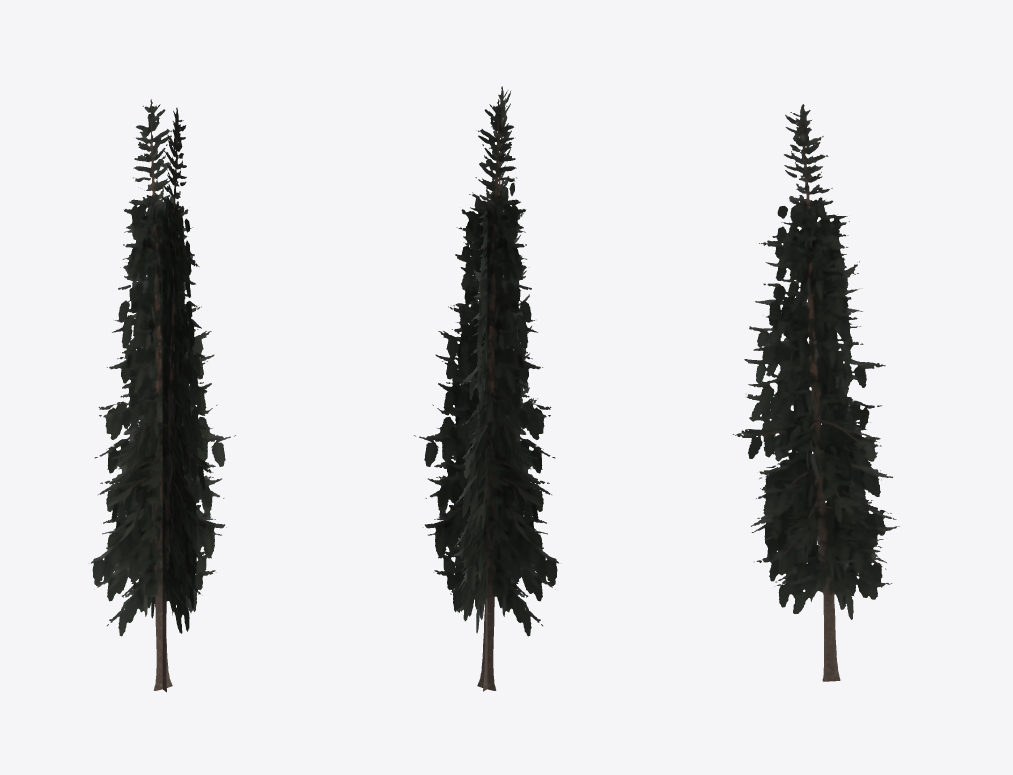
The model's file is spruce_b_LOD2_billboard.fbx.
The picture shows the model from 3 angles, left to right: view 1: azimuth 30°, elevation 25°; view 2: azimuth 150°, elevation 25°; view 3: azimuth 270°, elevation 25°; orthographic projection. The views are drawn at different scales.
Parts seen in each view (by area): view 1: Spruce_B_LOD2_Billboard; view 2: Spruce_B_LOD2_Billboard; view 3: Spruce_B_LOD2_Billboard.
Part boxes in pixels (x1=…): Spruce_B_LOD2_Billboard: x1=91, y1=99, x2=235, y2=692; Spruce_B_LOD2_Billboard: x1=414, y1=86, x2=558, y2=691; Spruce_B_LOD2_Billboard: x1=732, y1=104, x2=899, y2=681.
Bounding box in the file's own units: 12.02 × 24.03 × 12.02.
1 material, 1 textured.
